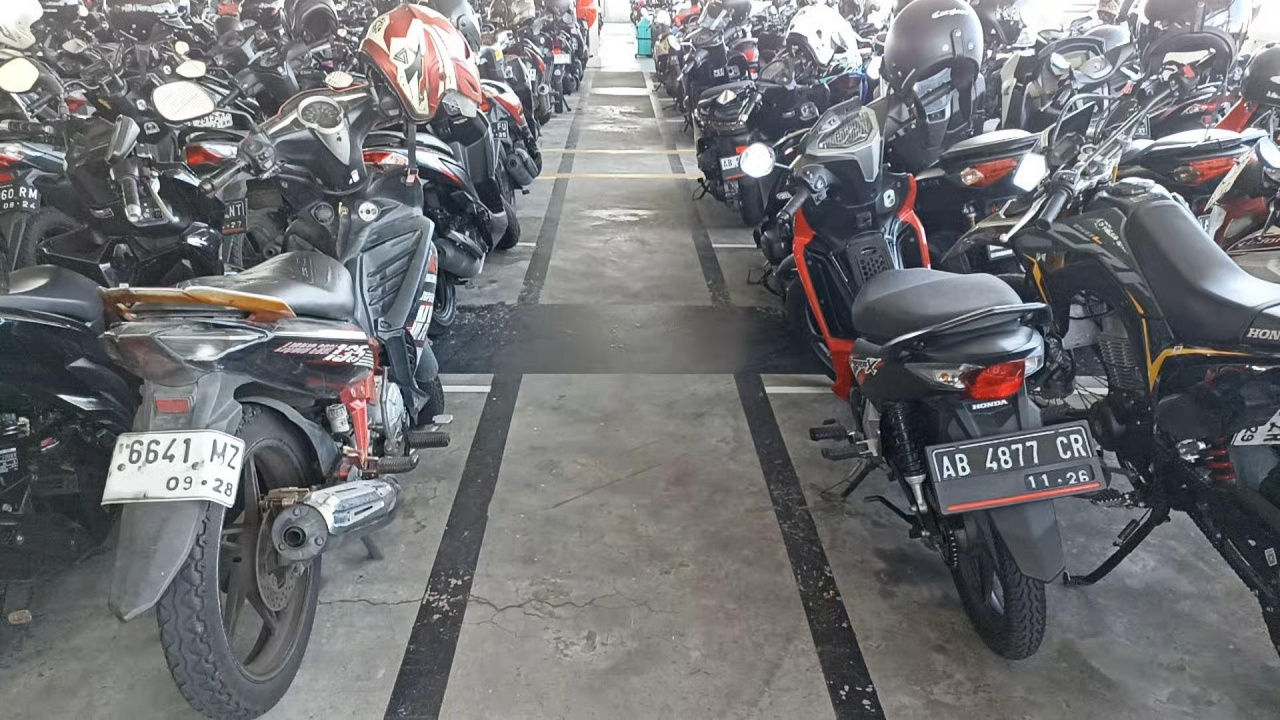plate: (930, 424, 1104, 512)
